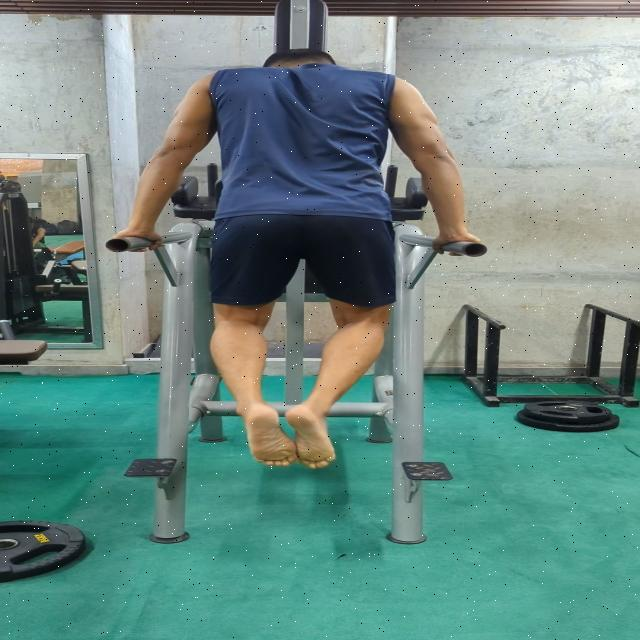Normal_Dips: (104, 35, 483, 468)
